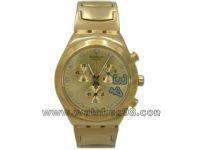watch: (52, 29, 144, 126)
